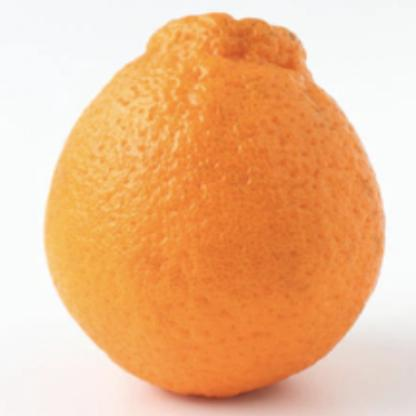fresh: (48, 14, 385, 397)
